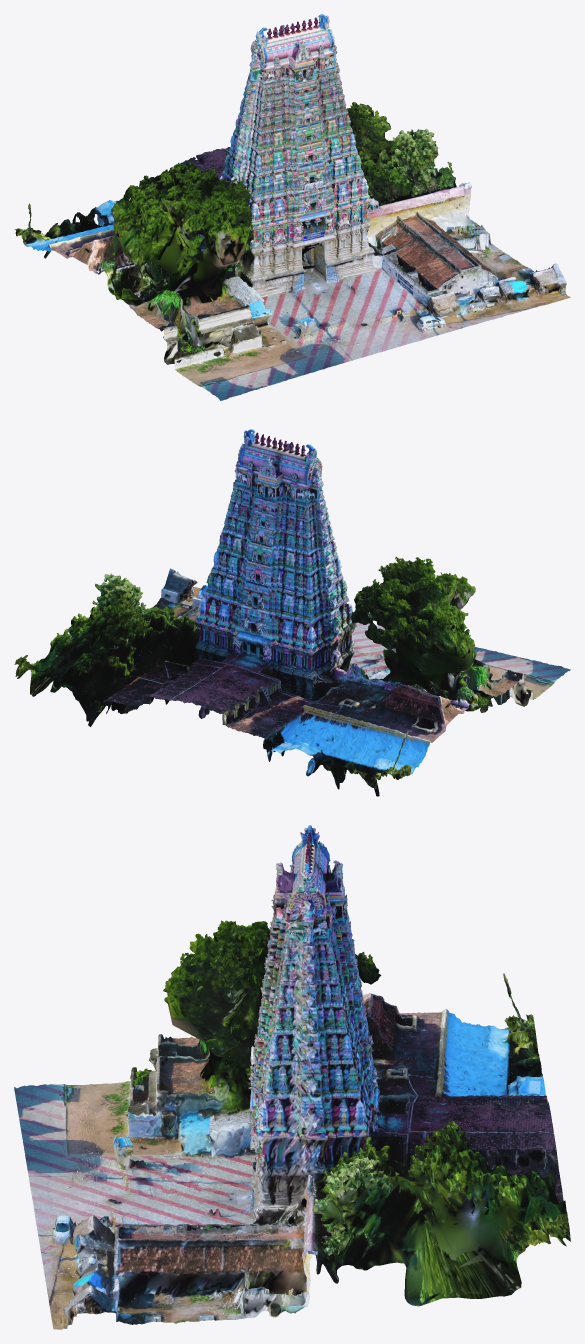
The model's file is Uthirakosamangai_temple.glb.
The picture shows the model from 3 angles, top to bottom: view 1: azimuth 30°, elevation 25°; view 2: azimuth 150°, elevation 25°; view 3: azimuth 270°, elevation 25°; orthographic projection. The views are drawn at different scales.
Visible parts, largest first — view 1: Object_2, Object_4, Object_3, Object_5; view 2: Object_4, Object_2, Object_5, Object_3; view 3: Object_2, Object_4, Object_3, Object_5.
Boxes of the visible parts, x1,y1,x2,y2 form: Object_2: [14, 14, 524, 400]; Object_4: [28, 25, 570, 373]; Object_3: [29, 15, 530, 389]; Object_5: [28, 17, 566, 367]; Object_4: [34, 440, 531, 777]; Object_2: [14, 429, 570, 796]; Object_5: [43, 433, 528, 764]; Object_3: [15, 430, 556, 775]; Object_2: [14, 832, 569, 1322]; Object_4: [23, 825, 566, 1329]; Object_3: [30, 840, 570, 1315]; Object_5: [25, 825, 562, 1314].
Bounding box in the file's own units: 18.37 × 11.94 × 16.43.
Materials: 2 (2 with a texture image).
